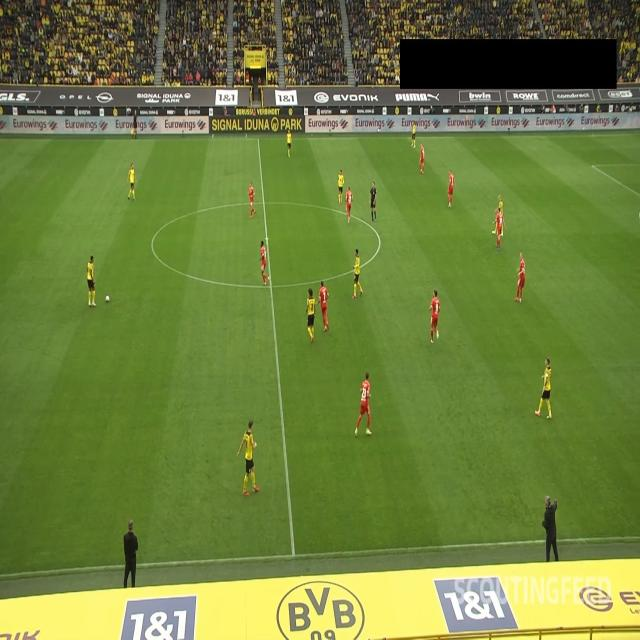ball: (105, 294, 110, 304)
